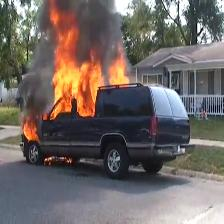fire: (56, 63, 99, 115), (109, 64, 124, 83)
smoke: (81, 0, 117, 59), (30, 45, 50, 114)
